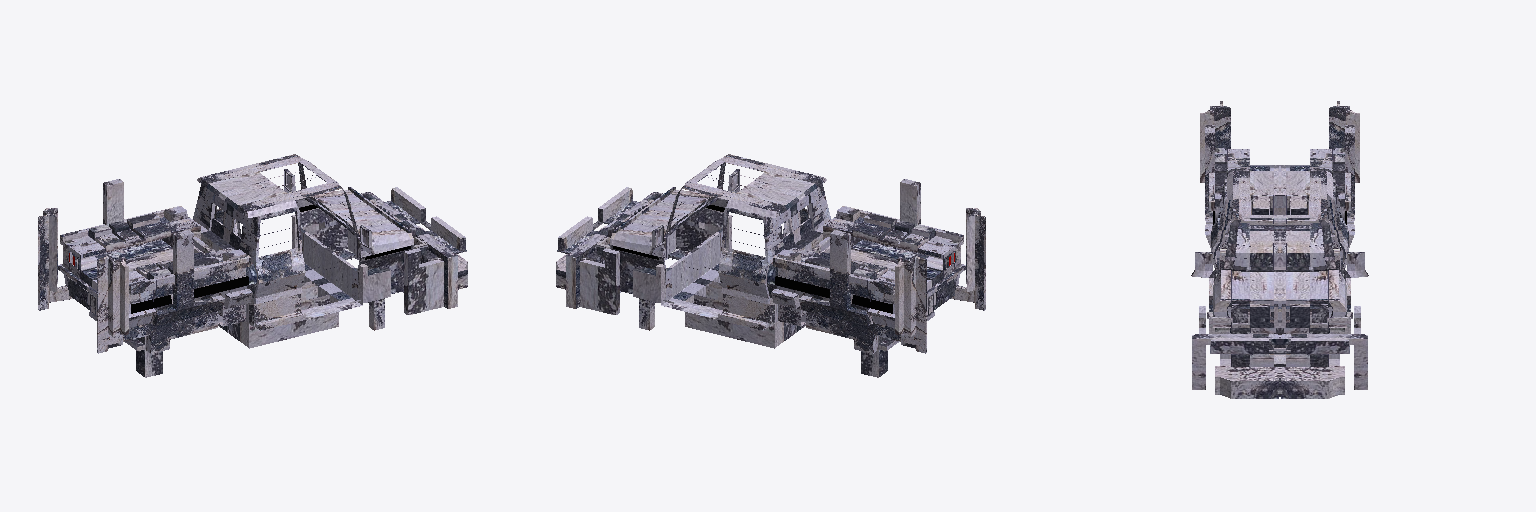
3 views of the same model, side by side, from view 1: azimuth 30°, elevation 25°; view 2: azimuth 150°, elevation 25°; view 3: azimuth 270°, elevation 25° (orthographic).
Visible parts, largest first — view 1: Cube; view 2: Cube; view 3: Cube.
Boxes of the visible parts, x1,y1,x2,y2 form: Cube: [38, 154, 467, 377]; Cube: [556, 154, 985, 377]; Cube: [1191, 101, 1368, 398].
Size of the model in its own units: 47.27 by 17.87 by 19.33.
Materials: 5 (1 with a texture image).